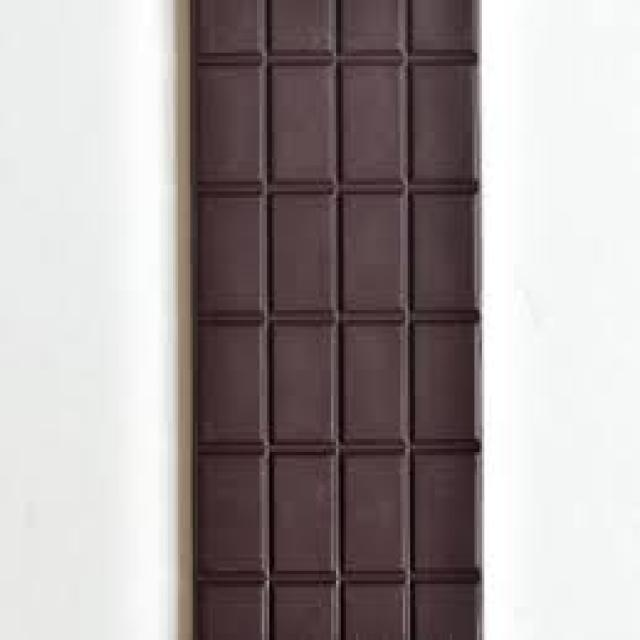Chocolate: (189, 0, 486, 640)
